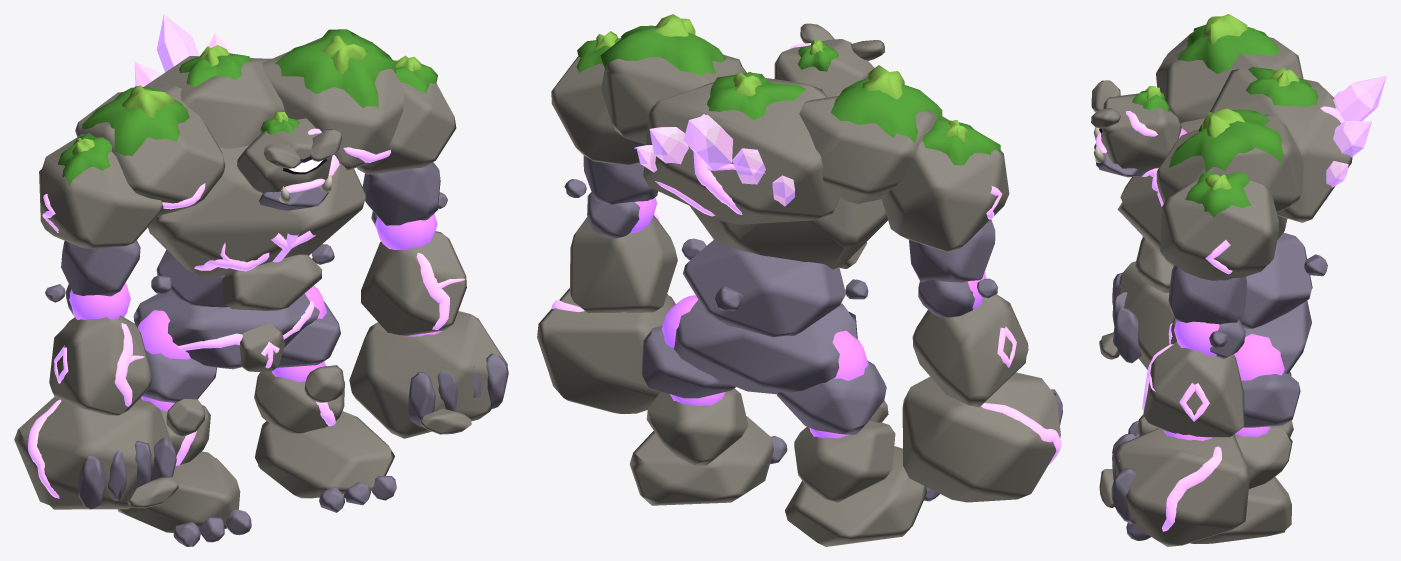
File: enemy_golem.glb
The picture shows the model from 3 angles, left to right: view 1: azimuth 30°, elevation 25°; view 2: azimuth 150°, elevation 25°; view 3: azimuth 270°, elevation 25°; orthographic projection. The views are drawn at different scales.
Visible parts, largest first — view 1: Torso, ForearmR, ForearmL, LegL, ArmR, LegR, ArmL, Hips, Head; view 2: Torso, ForearmR, ForearmL, LegR, LegL, ArmR, Hips, ArmL, Head; view 3: Torso, ForearmL, ArmL, LegL, Head, ForearmR, Hips, LegR.
Part boxes in pixels (bbox=[...]): Torso: bbox=[75, 14, 403, 310]; ForearmR: bbox=[14, 283, 178, 509]; ForearmL: bbox=[349, 211, 508, 438]; LegL: bbox=[254, 286, 396, 512]; ArmR: bbox=[39, 133, 163, 302]; LegR: bbox=[117, 310, 251, 546]; ArmL: bbox=[357, 55, 456, 225]; Hips: bbox=[133, 291, 319, 371]; Head: bbox=[237, 110, 341, 210]; Torso: bbox=[600, 14, 948, 337]; ForearmR: bbox=[902, 272, 1062, 502]; ForearmL: bbox=[537, 192, 677, 413]; LegR: bbox=[777, 330, 939, 546]; LegL: bbox=[629, 295, 787, 505]; ArmR: bbox=[881, 118, 1009, 298]; Hips: bbox=[674, 298, 857, 394]; ArmL: bbox=[551, 31, 658, 204]; Head: bbox=[774, 23, 884, 97]; Torso: bbox=[1117, 14, 1386, 328]; ForearmL: bbox=[1099, 319, 1249, 546]; ArmL: bbox=[1160, 172, 1278, 348]; LegL: bbox=[1126, 333, 1300, 543]; Head: bbox=[1091, 80, 1186, 177]; ForearmR: bbox=[1099, 235, 1174, 369]; Hips: bbox=[1168, 300, 1311, 373]; LegR: bbox=[1128, 372, 1293, 437].
Size of the model in its own units: 3.07 by 2.75 by 1.7.
